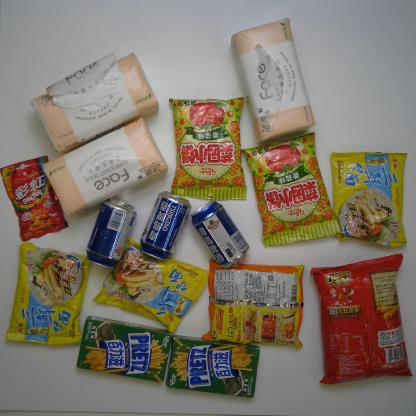Alcohol: (190, 201, 250, 270), (85, 196, 137, 269), (140, 189, 190, 261)
Candy: (1, 155, 68, 241)
Dessert: (76, 314, 171, 384), (167, 335, 261, 400)
Instant Noodles: (93, 238, 209, 334), (202, 259, 308, 349), (7, 242, 96, 344), (328, 147, 412, 250)
Puffed Food: (308, 253, 414, 384), (240, 127, 342, 248), (170, 96, 250, 204)
Tissue: (30, 50, 159, 152), (42, 117, 169, 217), (229, 18, 315, 144)
